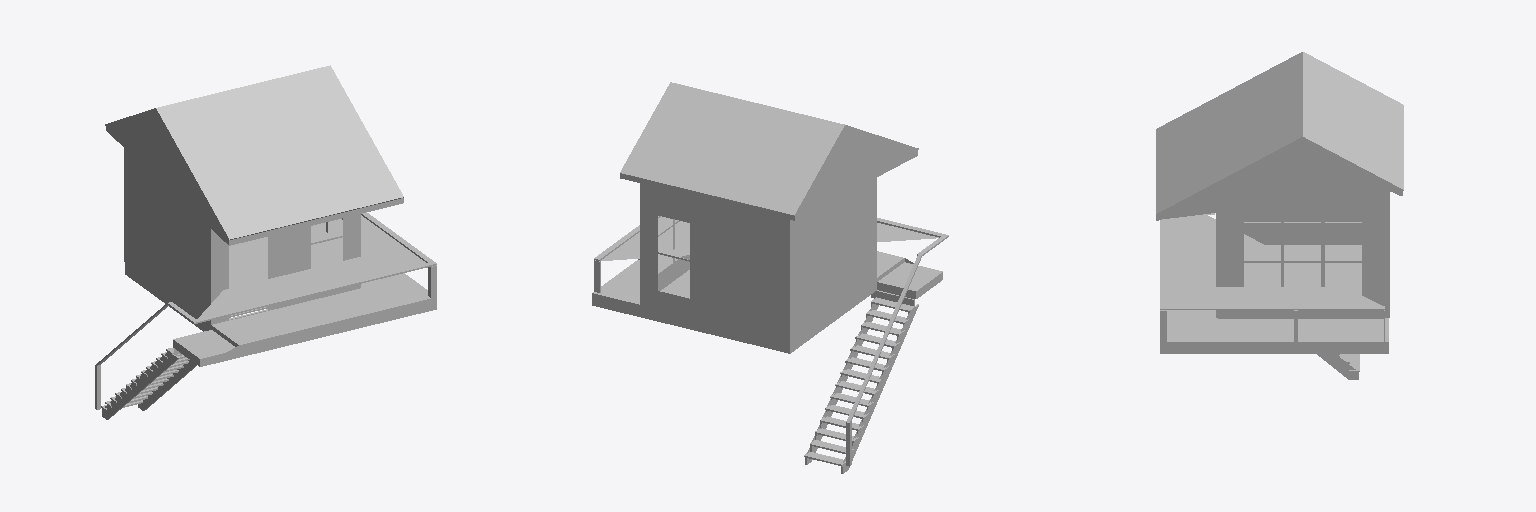
The model's file is treeHouse.obj.
The picture shows the model from 3 angles: view 1: azimuth 30°, elevation 25°; view 2: azimuth 150°, elevation 25°; view 3: azimuth 270°, elevation 25°; orthographic projection.
Parts seen in each view (by area): view 1: tree_house; view 2: tree_house; view 3: tree_house.
Boxes of the visible parts, x1,y1,x2,y2 form: tree_house: [95, 65, 436, 419]; tree_house: [592, 82, 948, 473]; tree_house: [1156, 52, 1403, 379].
Size of the model in its own units: 5.9 by 7.49 by 5.24.